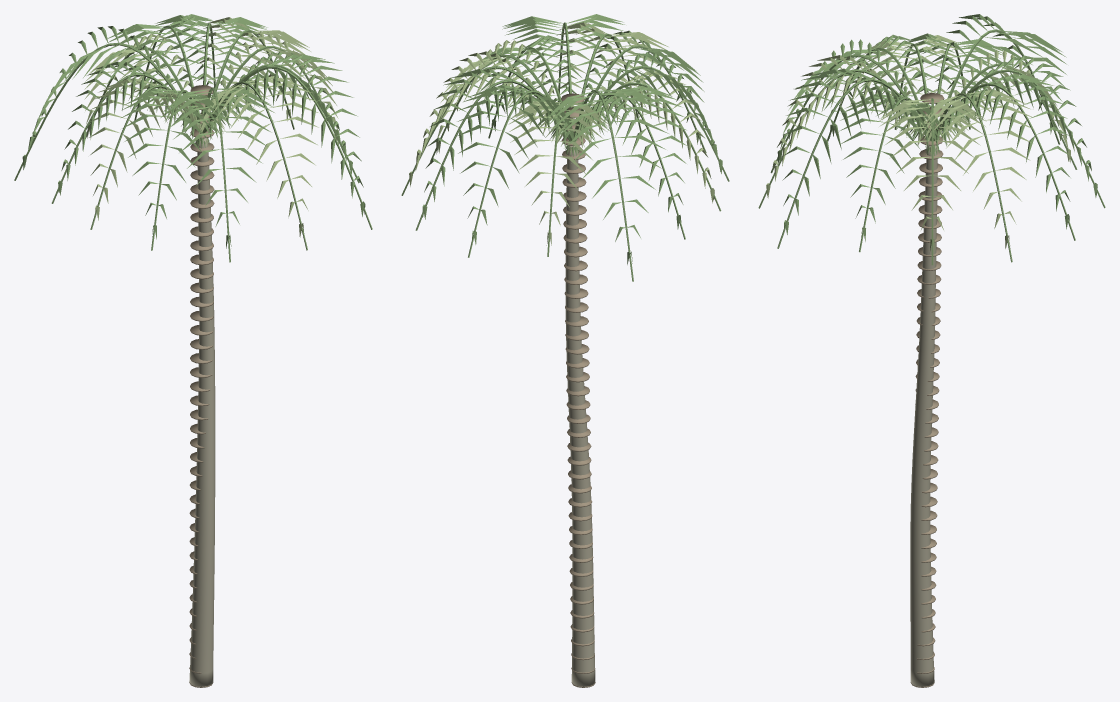
File: grove-specimen-8.glb
3 views of the same model, side by side, from view 1: azimuth 30°, elevation 25°; view 2: azimuth 150°, elevation 25°; view 3: azimuth 270°, elevation 25° (orthographic).
Visible parts, largest first — view 1: grove-specimen-8; view 2: grove-specimen-8; view 3: grove-specimen-8.
Part boxes in pixels (x1,y1,x2,y2): grove-specimen-8: (14, 14, 372, 687); grove-specimen-8: (401, 14, 729, 687); grove-specimen-8: (758, 14, 1105, 687).
Bounding box in the file's own units: 4.53 × 9.92 × 4.95.
